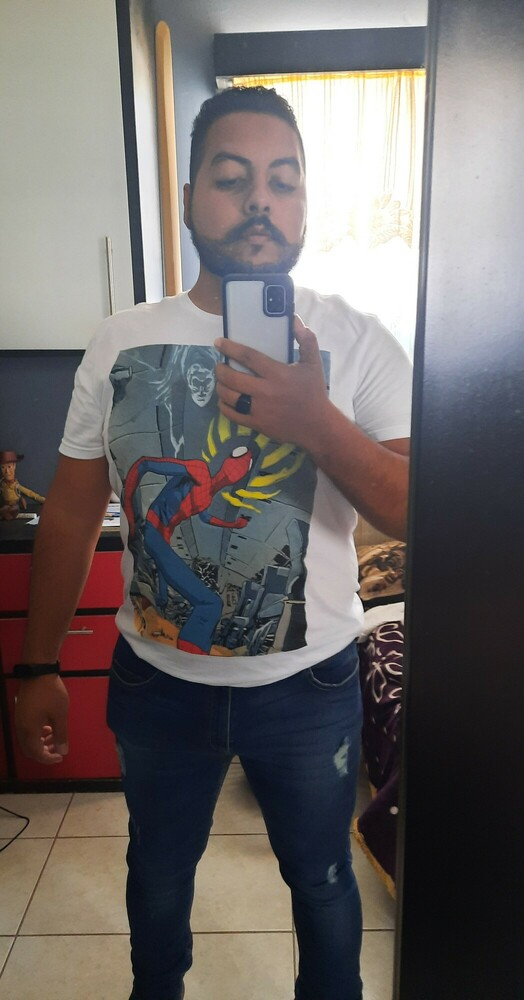Yoshi: (156, 59, 356, 320)
